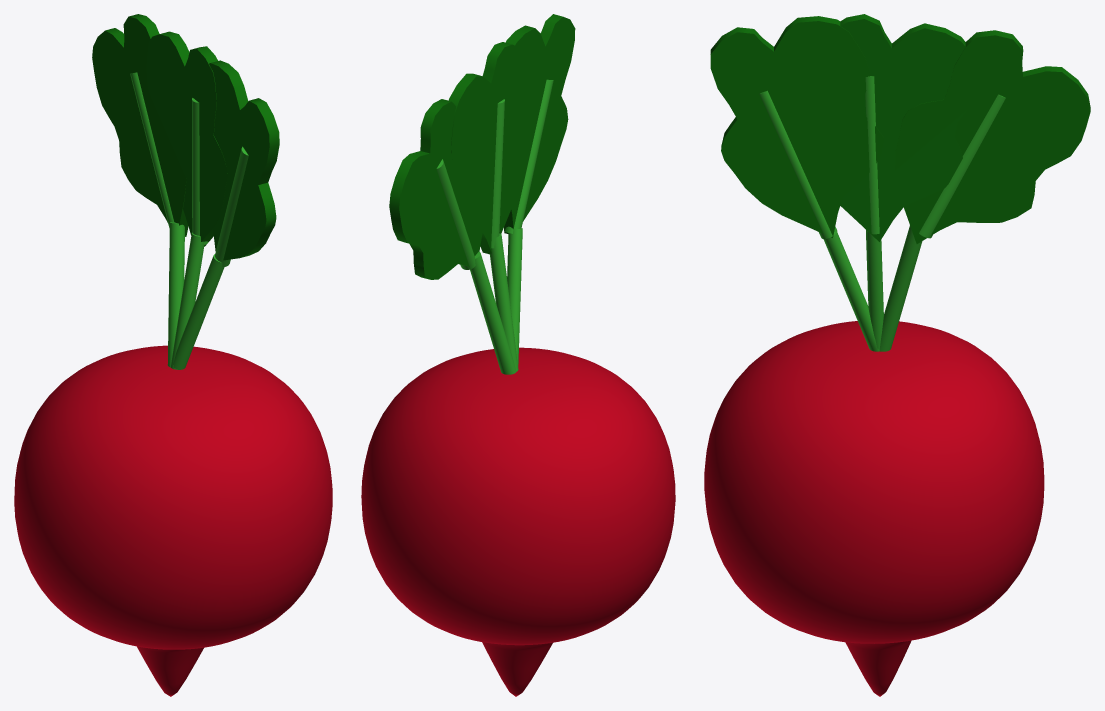
The model's file is radish.FBX.
The picture shows the model from 3 angles, left to right: view 1: azimuth 30°, elevation 25°; view 2: azimuth 150°, elevation 25°; view 3: azimuth 270°, elevation 25°; orthographic projection. The views are drawn at different scales.
Parts seen in each view (by area): view 1: Sphere045, Line003, Line001, Line002, Cylinder017, Cylinder016, Cylinder015, Cylinder023, Cylinder022, Cylinder021; view 2: Sphere045, Line003, Line001, Line002, Cylinder017, Cylinder015, Cylinder016, Cylinder022, Cylinder021, Cylinder023; view 3: Sphere045, Line002, Line003, Line001, Cylinder017, Cylinder016, Cylinder023, Cylinder015, Cylinder022, Cylinder021.
Boxes of the visible parts, box(x1,y1,x2,y2) form: Sphere045: box(14, 345, 332, 696); Line003: box(92, 14, 188, 236); Line001: box(146, 31, 227, 246); Line002: box(209, 60, 279, 260); Cylinder017: box(167, 222, 184, 367); Cylinder016: box(173, 254, 224, 369); Cylinder015: box(171, 232, 204, 369); Cylinder023: box(130, 72, 173, 227); Cylinder022: box(215, 146, 248, 266); Cylinder021: box(192, 98, 208, 244); Sphere045: box(361, 347, 675, 696); Line003: box(389, 99, 486, 279); Line001: box(448, 42, 529, 254); Line002: box(504, 14, 575, 234); Cylinder017: box(470, 251, 516, 374); Cylinder015: box(490, 233, 518, 371); Cylinder016: box(507, 228, 522, 366); Cylinder022: box(504, 79, 553, 233); Cylinder021: box(491, 99, 504, 248); Cylinder023: box(436, 159, 475, 269); Sphere045: box(704, 321, 1044, 696); Line002: box(710, 16, 883, 237); Line003: box(895, 30, 1090, 243); Line001: box(840, 14, 966, 241); Cylinder017: box(879, 226, 922, 351); Cylinder016: box(823, 232, 879, 351); Cylinder023: box(919, 94, 1005, 238); Cylinder015: box(865, 229, 883, 349); Cylinder022: box(759, 90, 837, 239); Cylinder021: box(865, 76, 879, 234).
Size of the model in its own units: 13.57 by 30.51 by 15.41.
